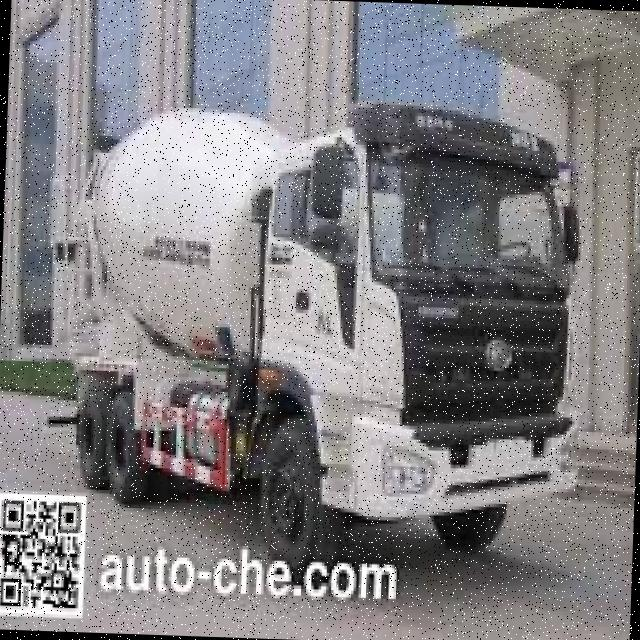Mixer Truck: (37, 84, 594, 592)
